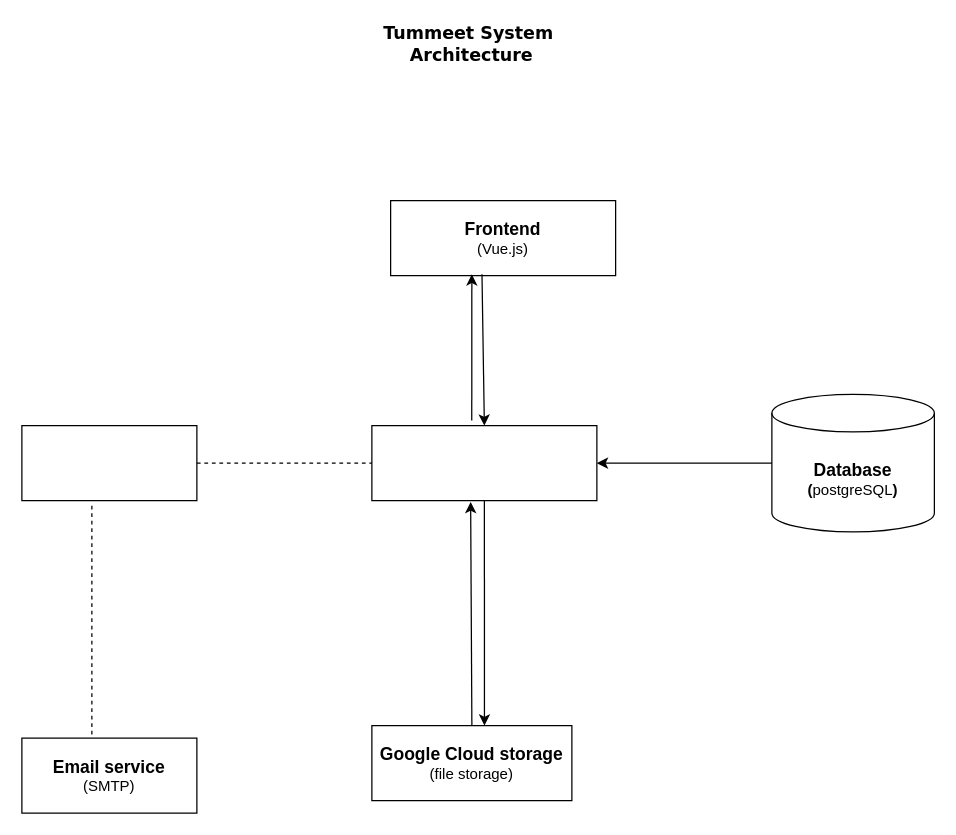
Some shapes in this 956 by 835 pixel diagram are drawn without their labels. The shapes that lost their labels are listed below. From the top down, each one's centre as x and y in pixels, then its label:
At point (109, 462): "Rabbitmq (Email Queue)".
At point (484, 462): "Backend (PHP API)".
